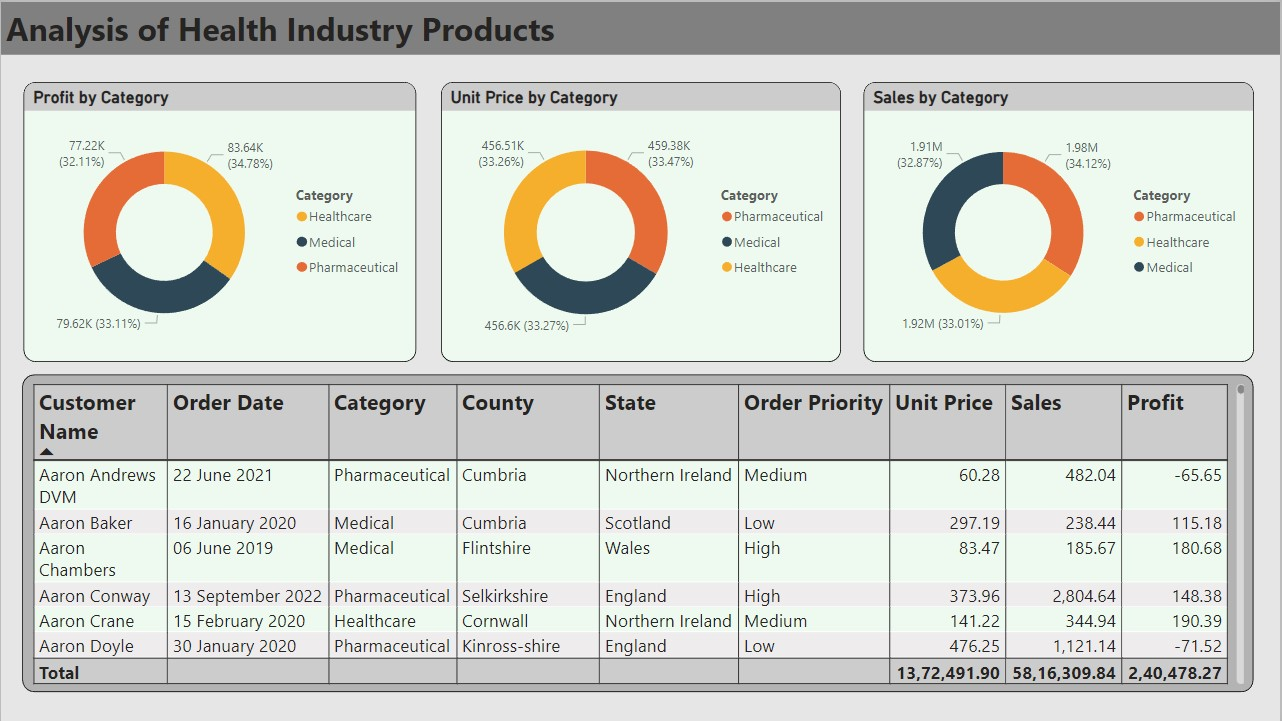

Layout of this report page (visuals, bound fields, positions):
{"tool":"powerbi","page":{"name":"Page 4","canvas":[1280,720],"ordinal":3},"visuals":[{"type":"donutChart","title":"Profit by Category","fields":{"Y":["Sum(medical_products_data_uk.Profit)"],"Category":["medical_products_data_uk.Category"]},"box":[22.5,80,392.5,280],"z":0},{"type":"donutChart","title":"Unit Price by Category","fields":{"Category":["medical_products_data_uk.Category"],"Y":["Sum(medical_products_data_uk.Unit Price)"]},"box":[440,80,400,280],"z":1000},{"type":"donutChart","title":"Sales by Category","fields":{"Y":["Sum(medical_products_data_uk.Sales)"],"Category":["medical_products_data_uk.Category"]},"box":[862.5,80,390,280],"z":2000},{"type":"tableEx","fields":{"Values":["medical_products_data_uk.Customer Name","medical_products_data_uk.Order Date","medical_products_data_uk.Category","medical_products_data_uk.County","medical_products_data_uk.State","medical_products_data_uk.Order Priority","Sum(medical_products_data_uk.Unit Price)","Sum(medical_products_data_uk.Sales)","Sum(medical_products_data_uk.Profit)"]},"box":[21.2,372.5,1231.2,317.5],"z":3000},{"type":"textbox","box":[0,0,1280,52.5],"z":4000}]}

Visuals, with their boxes in screenshot pixels (x1, y1, x2, y2), scaled from the page's 1280x720 canvas onto the 1282x721 screenshot:
"Profit by Category" donutChart: [23, 80, 416, 360]
"Unit Price by Category" donutChart: [441, 80, 841, 360]
"Sales by Category" donutChart: [864, 80, 1254, 360]
tableEx - medical_products_data_uk.Customer Name x medical_products_data_uk.Order Date: [21, 373, 1254, 691]
textbox: [0, 0, 1281, 53]
